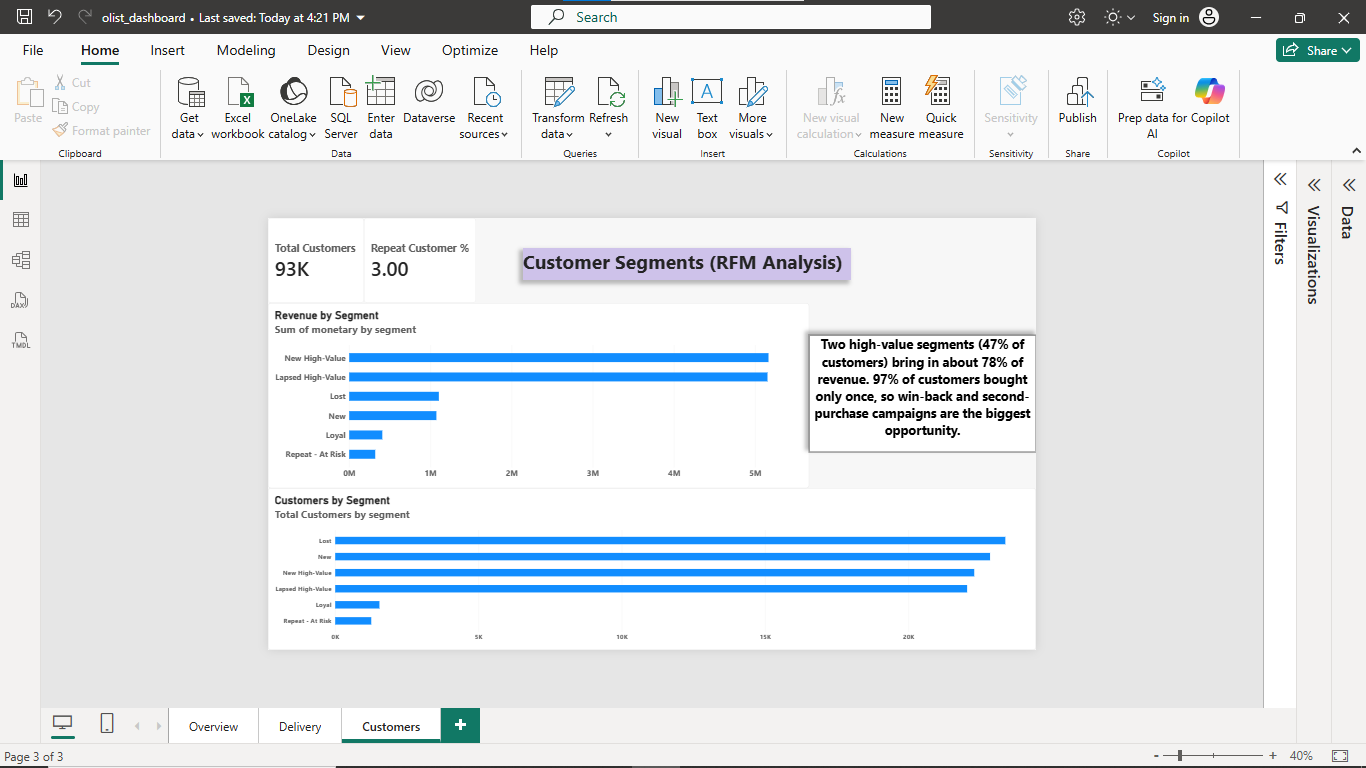

This screenshot's page, from the dashboard's own definition file:
{"tool":"powerbi","page":{"name":"Customers","canvas":[1920,1080],"ordinal":2},"visuals":[{"type":"textbox","box":[637.5,75,820,80],"z":0},{"type":"cardVisual","fields":{"Data":["rfm_segments.Total Customers"]},"box":[0,0,240,212.5],"z":1},{"type":"cardVisual","fields":{"Data":["rfm_segments.Repeat Customer %"]},"box":[240,0,280,212.5],"z":2},{"type":"clusteredBarChart","title":"Customers by Segment","fields":{"Category":["rfm_segments.segment"],"Y":["rfm_segments.Total Customers"]},"box":[0,675,1920,405],"z":3},{"type":"clusteredBarChart","title":"Revenue by Segment","fields":{"Category":["rfm_segments.segment"],"Y":["Sum(rfm_segments.monetary)"]},"box":[0,212.5,1352.5,462.5],"z":4},{"type":"textbox","box":[1352.5,292.5,567.5,292.5],"z":5}]}

Visuals, with their boxes on the page's 1920x1080 design canvas (x1, y1, x2, y2). These are canvas units, not pixel positions in the 1366x768 screenshot, which may show the page scaled, cropped or inside an application window:
textbox: bbox=[638, 75, 1458, 155]
cardVisual - rfm_segments.Total Customers: bbox=[0, 0, 240, 212]
cardVisual - rfm_segments.Repeat Customer %: bbox=[240, 0, 520, 212]
"Customers by Segment" clusteredBarChart: bbox=[0, 675, 1920, 1080]
"Revenue by Segment" clusteredBarChart: bbox=[0, 212, 1352, 675]
textbox: bbox=[1352, 292, 1920, 585]
